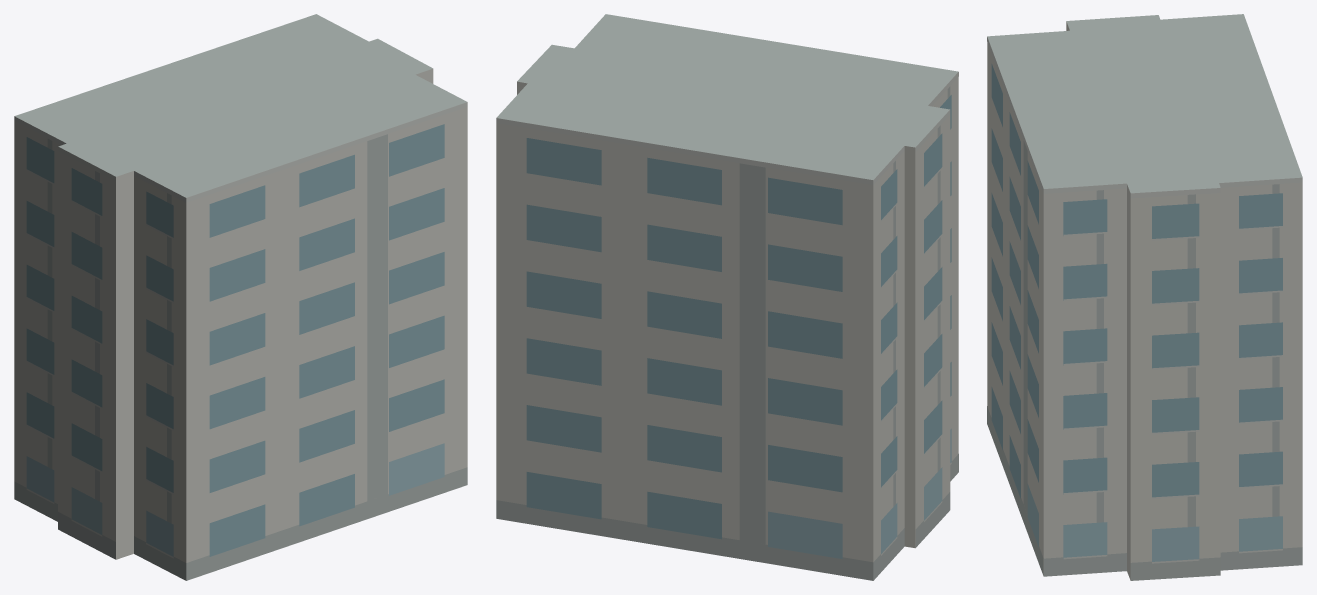
The model's file is survey-upis-32934546.glb.
3 views of the same model, side by side, from view 1: azimuth 30°, elevation 25°; view 2: azimuth 150°, elevation 25°; view 3: azimuth 270°, elevation 25° (orthographic). The views are drawn at different scales.
Visible parts, largest first — view 1: survey-upis-32934546.tmp; view 2: survey-upis-32934546.tmp; view 3: survey-upis-32934546.tmp.
Boxes of the visible parts, x1,y1,x2,y2 form: survey-upis-32934546.tmp: [14, 14, 467, 580]; survey-upis-32934546.tmp: [496, 14, 958, 580]; survey-upis-32934546.tmp: [987, 14, 1302, 580].
Bounding box in the file's own units: 18.77 × 18.9 × 13.96.
